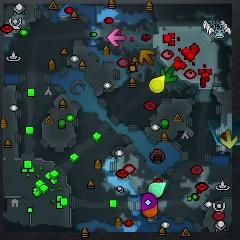p2: (149, 181, 167, 197)
p3: (141, 192, 157, 212)
p4: (149, 74, 166, 94)
p5: (143, 203, 157, 217)
x1: (108, 28, 125, 47)
x2: (220, 129, 238, 149)
x4: (160, 66, 177, 84)
x5: (139, 49, 155, 65)
